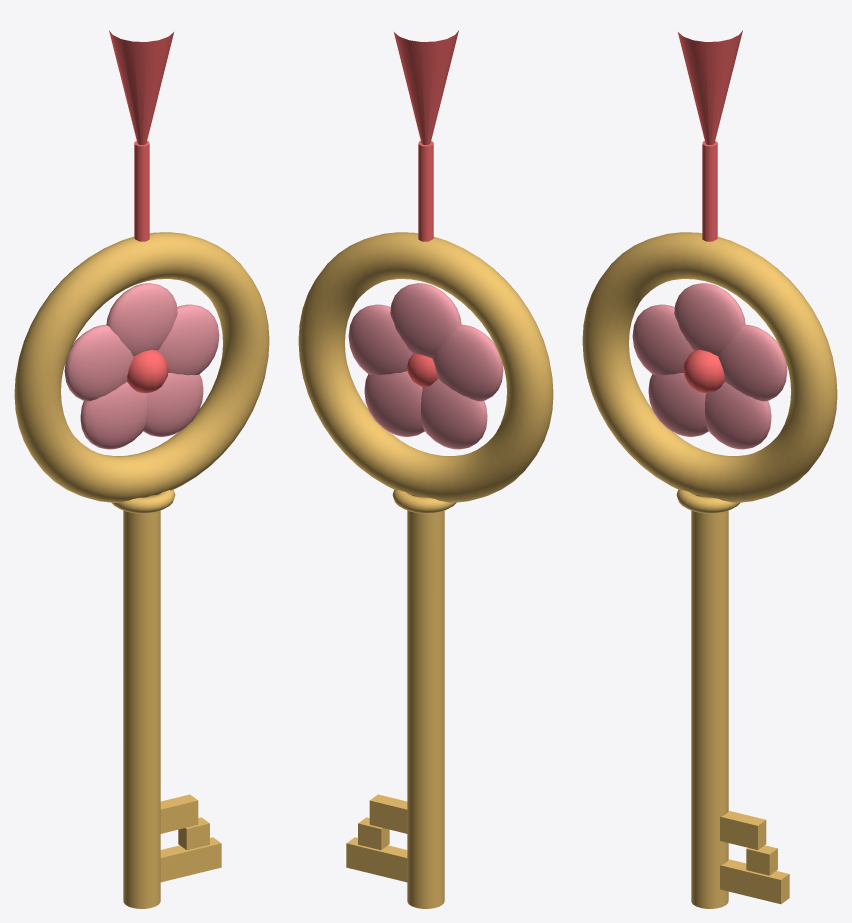
The model's file is sas_cle.glb.
The picture shows the model from 3 angles, left to right: view 1: azimuth 30°, elevation 25°; view 2: azimuth 150°, elevation 25°; view 3: azimuth 330°, elevation 25°; orthographic projection.
Visible parts, largest first — view 1: Anneau, Tige, Petale_2, Pompon, Petale_1, Petale_3, Petale_5, Petale_4, Dent_1, Cordon, Coeur, Dent_2 (+2 smaller); view 2: Anneau, Tige, Petale_2, Pompon, Petale_1, Petale_3, Petale_5, Petale_4, Dent_1, Cordon, Dent_2, Bague (+2 smaller); view 3: Anneau, Tige, Petale_5, Pompon, Petale_1, Petale_4, Petale_2, Petale_3, Dent_1, Cordon, Dent_2, Coeur (+2 smaller).
Boxes of the visible parts, bbox=[...] form: Anneau: bbox=[14, 232, 269, 502]; Tige: bbox=[123, 495, 160, 908]; Petale_2: bbox=[64, 324, 133, 401]; Pompon: bbox=[109, 30, 173, 144]; Petale_1: bbox=[106, 283, 177, 355]; Petale_3: bbox=[80, 382, 146, 449]; Petale_5: bbox=[158, 304, 219, 375]; Petale_4: bbox=[143, 373, 203, 436]; Dent_1: bbox=[160, 837, 221, 882]; Cordon: bbox=[134, 141, 149, 241]; Coeur: bbox=[127, 350, 168, 393]; Dent_2: bbox=[160, 794, 198, 833]; Anneau: bbox=[298, 232, 553, 502]; Tige: bbox=[407, 495, 444, 908]; Petale_2: bbox=[432, 324, 503, 401]; Pompon: bbox=[394, 30, 458, 144]; Petale_1: bbox=[390, 283, 461, 358]; Petale_3: bbox=[421, 379, 487, 449]; Petale_5: bbox=[348, 304, 412, 375]; Petale_4: bbox=[364, 371, 424, 436]; Dent_1: bbox=[346, 837, 407, 882]; Cordon: bbox=[418, 141, 433, 241]; Dent_2: bbox=[369, 794, 407, 833]; Bague: bbox=[392, 489, 456, 513]; Anneau: bbox=[582, 232, 837, 502]; Tige: bbox=[691, 495, 728, 908]; Petale_5: bbox=[718, 324, 787, 401]; Pompon: bbox=[678, 30, 742, 144]; Petale_1: bbox=[674, 283, 745, 355]; Petale_4: bbox=[705, 382, 771, 449]; Petale_2: bbox=[632, 304, 693, 375]; Petale_3: bbox=[648, 373, 708, 436]; Dent_1: bbox=[720, 859, 789, 904]; Cordon: bbox=[702, 141, 717, 241]; Dent_2: bbox=[720, 810, 766, 849]; Coeur: bbox=[683, 350, 724, 393].
Bounding box in the file's own units: 0.043 × 0.144 × 0.01.
